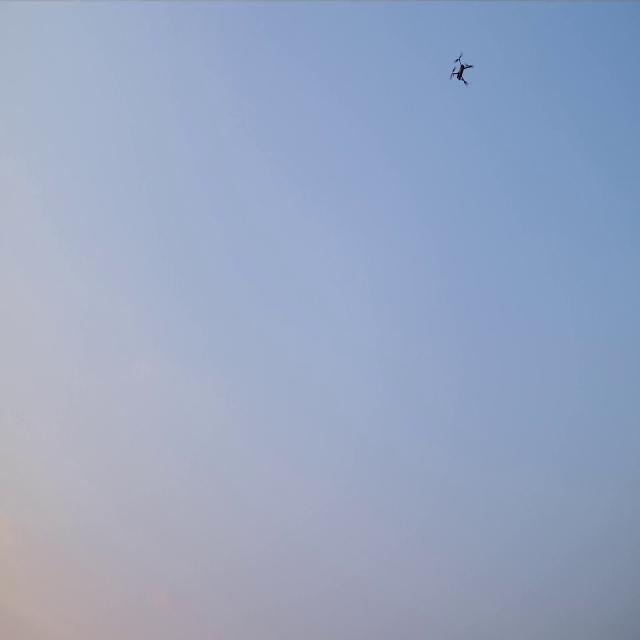UAV: (451, 56, 472, 84)
